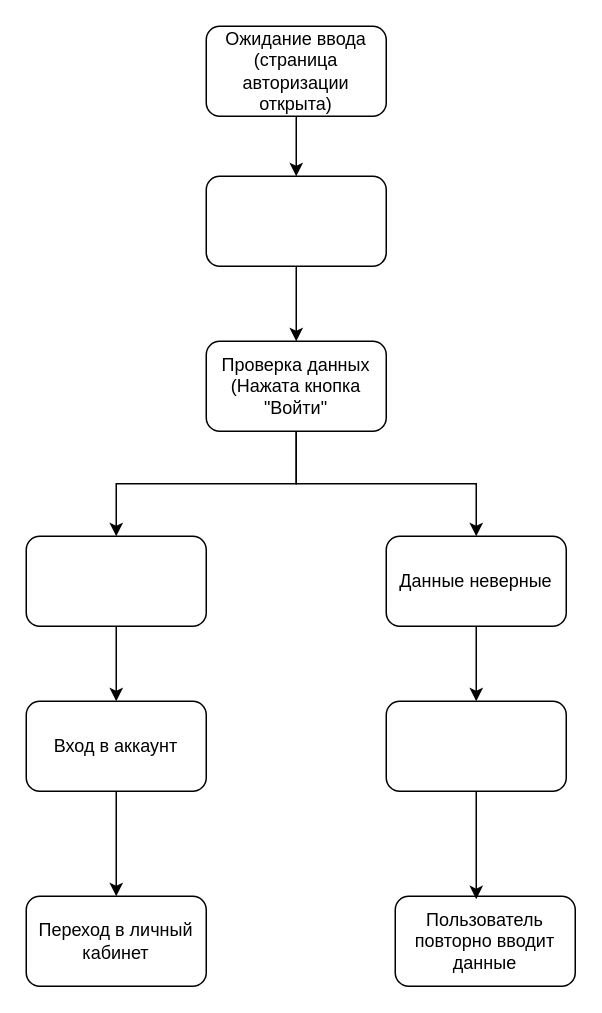
This 602x1013 diagram has some shape labels left out. The shapes that lost their labels are listed below. From the top down, each one's centre as x and y in pixels, then its label:
pixel 295 220: Ввод данных (email и пароль)
pixel 115 580: Данные верные
pixel 475 745: Ошибка авторизации
